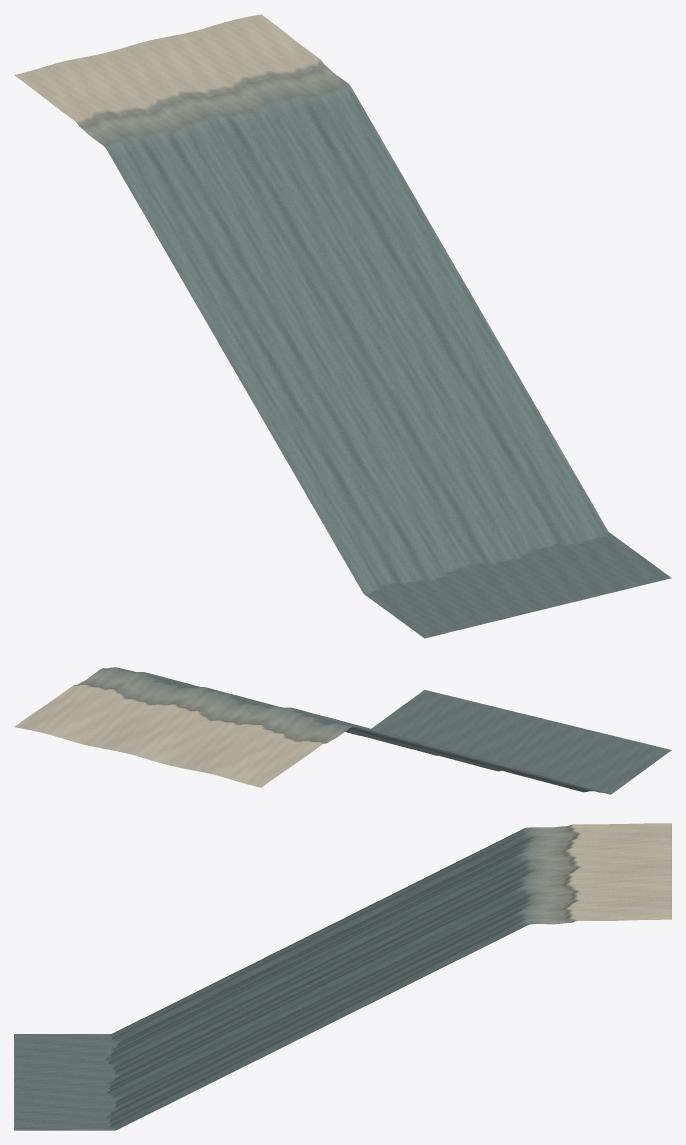
The model's file is beach.obj.
3 views of the same model, one above another, from view 1: azimuth 30°, elevation 25°; view 2: azimuth 150°, elevation 25°; view 3: azimuth 270°, elevation 25° (orthographic). The views are drawn at different scales.
Bounding box in the file's own units: 96 × 98.09 × 276.
